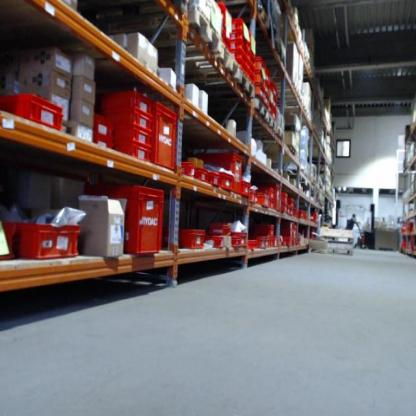pallet: (89, 6, 220, 75), (133, 30, 243, 87), (223, 67, 256, 102), (234, 1, 268, 33), (255, 141, 296, 163), (240, 95, 268, 125), (258, 109, 278, 133), (274, 127, 284, 142)
pallet_truck: (351, 200, 376, 253), (326, 198, 348, 227)
small_load_carrier: (82, 183, 165, 257), (0, 91, 66, 133), (1, 223, 75, 259), (197, 148, 242, 196), (149, 101, 178, 172), (99, 89, 155, 115), (101, 109, 153, 129), (113, 123, 151, 144), (108, 144, 151, 161), (179, 229, 207, 251), (92, 111, 113, 135), (222, 231, 246, 250), (255, 180, 276, 198), (90, 134, 112, 151), (210, 222, 236, 234), (219, 174, 232, 194), (197, 166, 209, 186), (182, 161, 196, 178), (232, 38, 248, 52), (232, 58, 246, 74), (209, 235, 226, 248), (254, 226, 276, 236), (233, 18, 248, 32), (209, 172, 222, 188), (276, 183, 282, 211), (257, 194, 268, 209), (251, 86, 262, 101), (243, 181, 251, 200), (256, 236, 264, 251), (250, 187, 256, 204), (232, 52, 248, 58), (263, 94, 269, 109), (233, 32, 248, 38), (248, 238, 256, 248), (234, 237, 242, 247), (271, 200, 276, 210), (270, 237, 274, 248), (265, 238, 269, 246), (274, 239, 277, 245)
